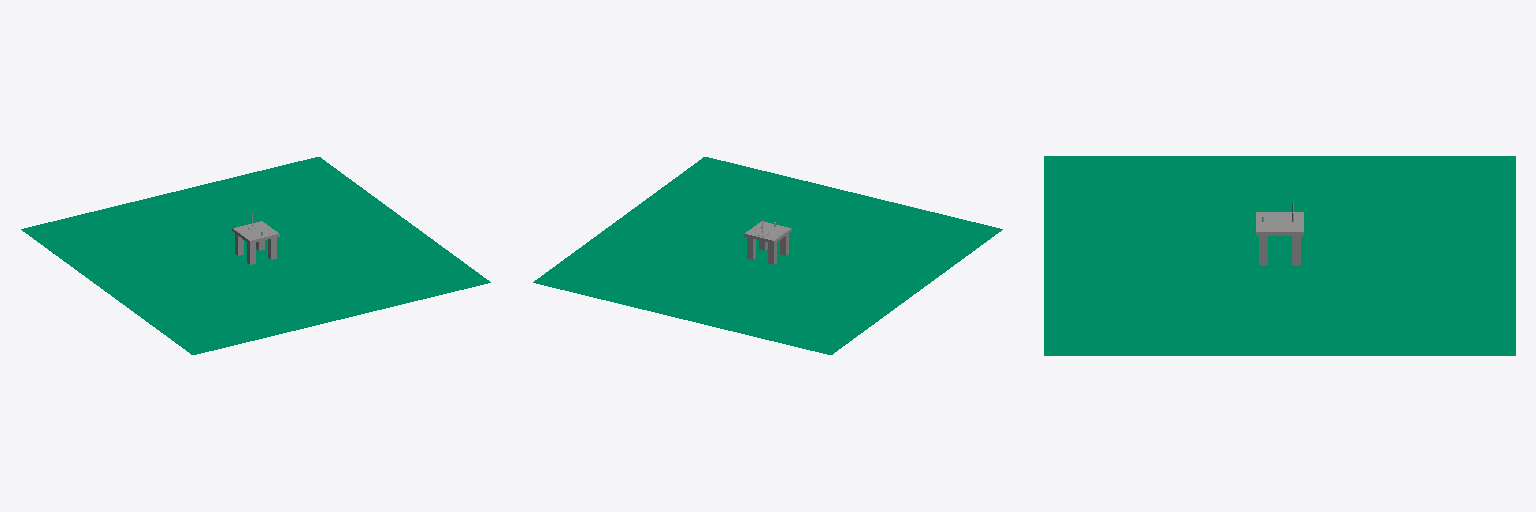
The robot description file, URDF, robot "test_scene":
<?xml version="1.0"?>
<!-- created with Phobos 1.0.1 "Capricious Choutengan" -->
  <robot name="test_scene">

    <link name="arm_1_link">
      <inertial>
        <origin xyz="0 0.19559 4e-05" rpy="0 0 0"/>
        <mass value="0.12"/>
        <inertia ixx="0.00163" ixy="0" ixz="0" iyy="5e-05" iyz="0" izz="0.00163"/>
      </inertial>
      <visual name="Arm section 1">
        <origin xyz="0 0.21482 0.00076" rpy="1.5708 0 0"/>
        <geometry>
          <cylinder radius="0.03" length="0.4"/>
        </geometry>
        <material name="Material.003"/>
      </visual>
      <collision name="Arm section 1">
        <origin xyz="0 0.21507 0.00053" rpy="1.5708 0 0"/>
        <geometry>
          <cylinder radius="0.03" length="0.4"/>
        </geometry>
      </collision>
    </link>

    <link name="arm_base_link.000">
      <inertial>
        <origin xyz="0 0 0.4195" rpy="0 0 0"/>
        <mass value="0.45"/>
        <inertia ixx="0.05497" ixy="0" ixz="0" iyy="0.05497" iyz="0" izz="0.01668"/>
      </inertial>
      <visual name="Arm base">
        <origin xyz="0 0 0.4195" rpy="0 0 0"/>
        <geometry>
          <mesh filename="..\meshes\dae\Sphere.dae" scale="1.0 1.0 1.0"/>
        </geometry>
        <material name="Material.004"/>
      </visual>
      <collision name="Arm base.000">
        <origin xyz="0 0 0.4195" rpy="0 0 0"/>
        <geometry>
          <mesh filename="..\meshes\dae\Sphere.001.dae" scale="1.0 1.0 1.0"/>
        </geometry>
      </collision>
    </link>

    <link name="root">
      <inertial>
        <origin xyz="0 0 0" rpy="0 0 0"/>
        <mass value="100000.0"/>
        <inertia ixx="3333333.25" ixy="0" ixz="0" iyy="3333333.25" iyz="0" izz="6666666.5"/>
      </inertial>
      <visual name="Ground">
        <origin xyz="0 0 0" rpy="0 0 0"/>
        <geometry>
          <box size="20.0 20.0 0.0002"/>
        </geometry>
      </visual>
      <collision name="Ground">
        <origin xyz="0 0 0" rpy="0 0 0"/>
        <geometry>
          <box size="20.0 20.0 0.0002"/>
        </geometry>
      </collision>
    </link>

    <link name="soda_can_link">
      <inertial>
        <origin xyz="0 0 0" rpy="0 0 0"/>
        <mass value="0.04"/>
        <inertia ixx="0.00023" ixy="0" ixz="0" iyy="0.00023" iyz="0" izz="7e-05"/>
      </inertial>
      <visual name="Soda Can">
        <origin xyz="0 0 0" rpy="0 0 0"/>
        <geometry>
          <mesh filename="..\meshes\dae\Cylinder.dae" scale="1.0 1.0 1.0"/>
        </geometry>
        <material name="soda_can_mat"/>
      </visual>
      <collision name="Soda Can">
        <origin xyz="0 0 0" rpy="0 0 0"/>
        <geometry>
          <cylinder radius="0.06" length="0.24"/>
        </geometry>
      </collision>
    </link>

    <link name="table_link">
      <inertial>
        <origin xyz="0 0 0" rpy="0 0 0"/>
        <mass value="68.0"/>
        <inertia ixx="50.28507" ixy="0" ixz="0" iyy="50.28507" iyz="0" izz="44.98273"/>
      </inertial>
      <visual name="1m Table">
        <origin xyz="0 0 0" rpy="0 0 0"/>
        <geometry>
          <mesh filename="..\meshes\dae\1m Table.dae" scale="1.0 1.0 1.0"/>
        </geometry>
        <material name="Material.001"/>
      </visual>
      <collision name="1m Table.000">
        <origin xyz="0 0 0" rpy="0 0 0"/>
        <geometry>
          <mesh filename="..\meshes\dae\Cube.002.dae" scale="1.0 1.0 1.0"/>
        </geometry>
      </collision>
    </link>

    <joint name="arm_1_link" type="revolute">
      <origin xyz="0 0 0.45848" rpy="1.5708 0 0"/>
      <parent link="arm_base_link.000"/>
      <child link="arm_1_link"/>
      <axis xyz="0 0 1.0"/>
      <limit lower="-0.4" upper="0.4" effort="0" velocity="0"/>
    </joint>

    <joint name="arm_base_link.000.000" type="floating">
      <origin xyz="0.0656 0.55642 1.6248" rpy="0 0 0"/>
      <parent link="root"/>
      <child link="arm_base_link.000"/>
      <limit effort="0" velocity="0"/>
    </joint>

    <joint name="soda_can_link" type="floating">
      <origin xyz="-0.03638 -0.72384 1.73349" rpy="0 0 0"/>
      <parent link="root"/>
      <child link="soda_can_link"/>
      <limit effort="0" velocity="0"/>
    </joint>

    <joint name="table_link" type="floating">
      <origin xyz="0 0 1.5" rpy="0 0 0"/>
      <parent link="root"/>
      <child link="table_link"/>
      <limit effort="0" velocity="0"/>
    </joint>

    <material name="Material.001">
      <color rgba="0.64 0.64 0.64 1.0"/>
    </material>

    <material name="Material.003">
      <color rgba="0.64 0.64 0.64 1.0"/>
    </material>

    <material name="Material.004">
      <color rgba="0.64 0.64 0.64 1.0"/>
    </material>

    <material name="soda_can_mat">
      <color rgba="0.60206 0.64 0.64 1.0"/>
    </material>

  </robot>

--- Render facts (derived) ---
Views: 3 orthographic renders of the robot side by side, from view 1: azimuth 30°, elevation 25°; view 2: azimuth 150°, elevation 25°; view 3: azimuth 270°, elevation 25°.
Model test_scene with 5 links and 4 joints (1 revolute, 3 floating), rooted at root, posed all joints at 0.
Links seen in each view (by area): view 1: root, table_link; view 2: root, table_link; view 3: root, table_link.
Boxes of the visible links, left/top/right/bottom form: root: left=21, top=157, right=490, bottom=354; table_link: left=232, top=221, right=279, bottom=264; root: left=533, top=157, right=1002, bottom=354; table_link: left=744, top=221, right=791, bottom=264; root: left=1044, top=156, right=1515, bottom=355; table_link: left=1256, top=212, right=1303, bottom=264.
Bounding box of the posed robot: 20 × 20 × 2.5 m (x, y, z).
3 mesh visuals loaded from 3 distinct referenced files (3 Collada DAE).